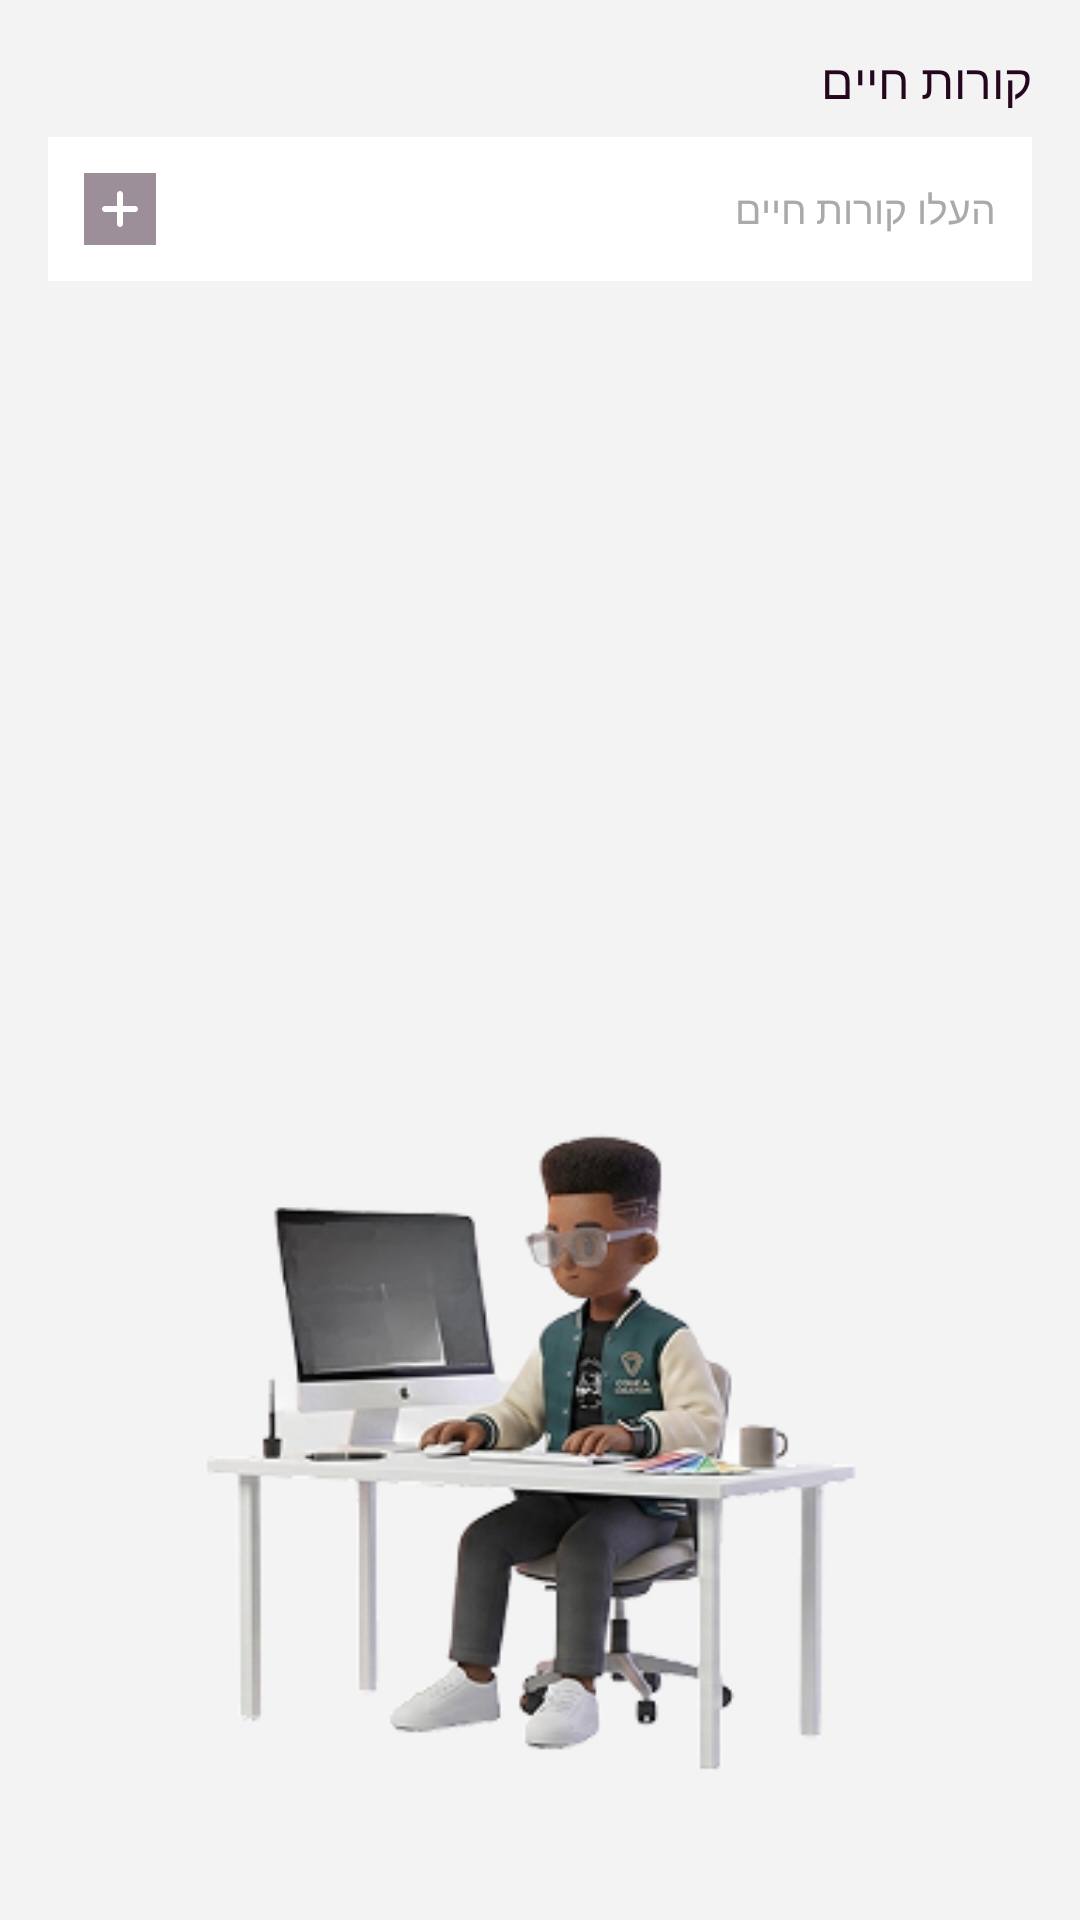

Named icons in this screenshot (1080×1920) and their bounding boxes, (x1, y1, x2, y2):
plus: (84, 173, 156, 245)
